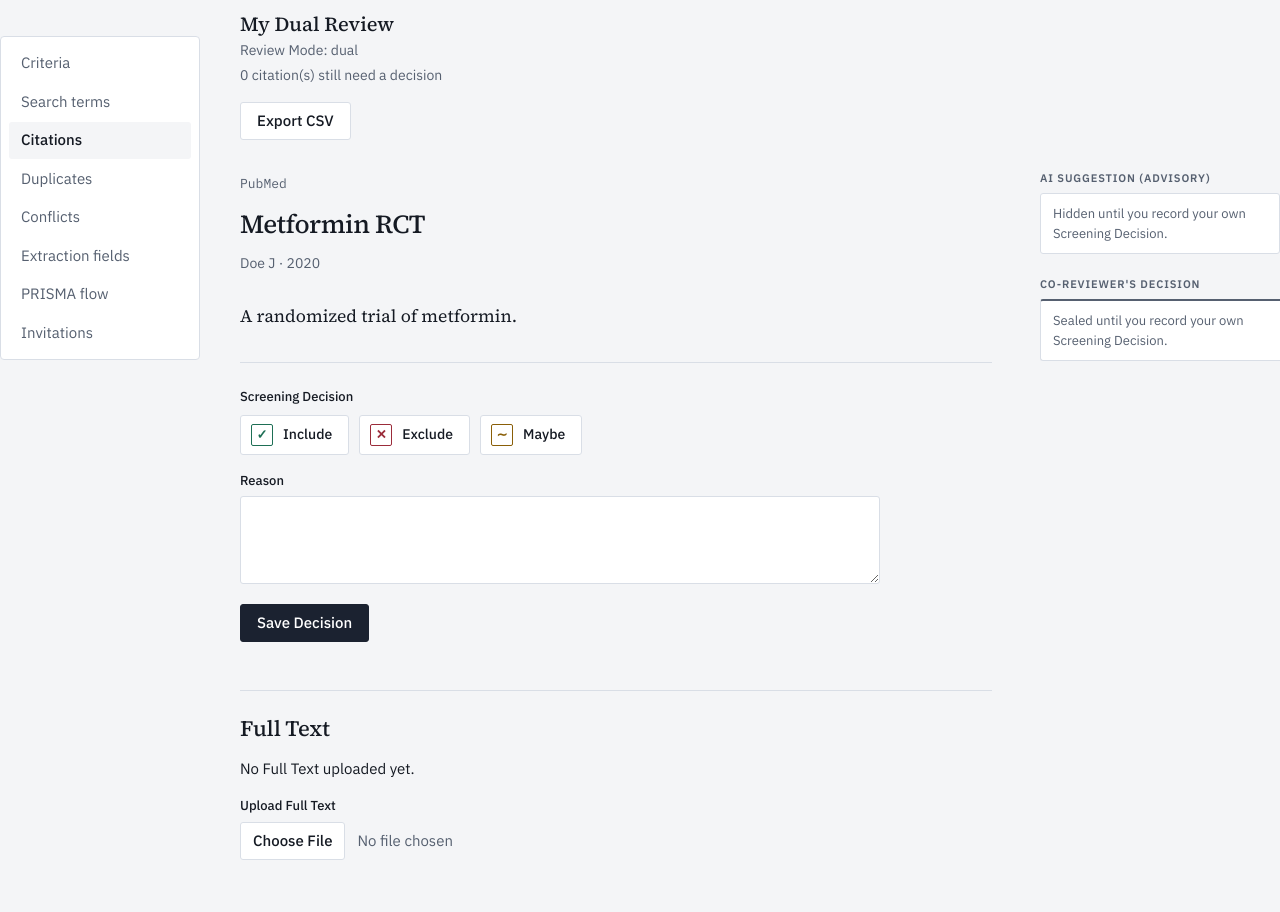
Test: CitationScreeningPage › saving a decision while the suggestion is still being generated (blind Dual) › shows the suggestion once it is ready, without a reload
Check: the text "Hidden until you record your own Screening Decision." is shown, box 1053,204 -> 1267,243
Click the radio button labelled "include": (295, 435) 240,415 -> 349,455
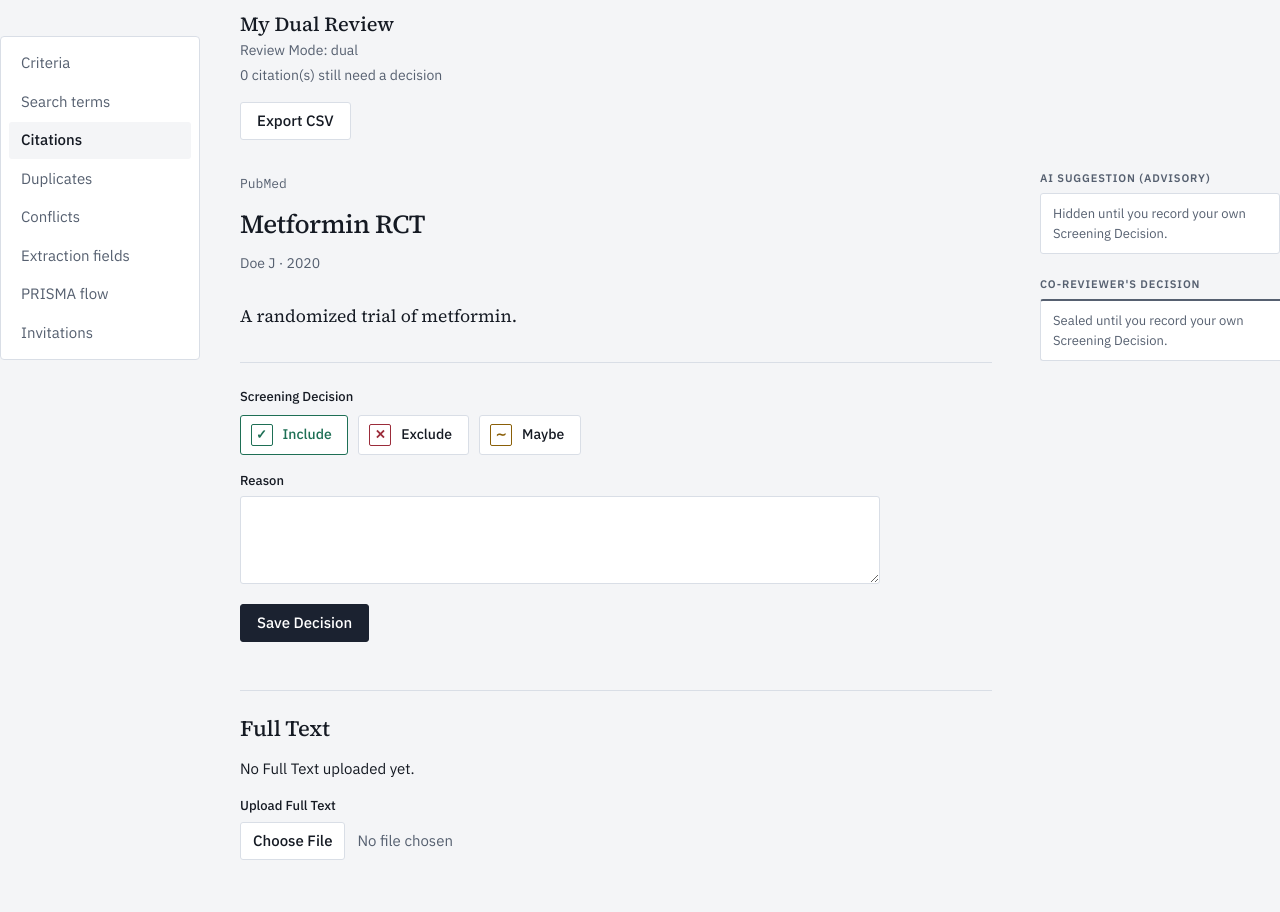
Click the button "Save Decision": (305, 623) 240,604 -> 369,642
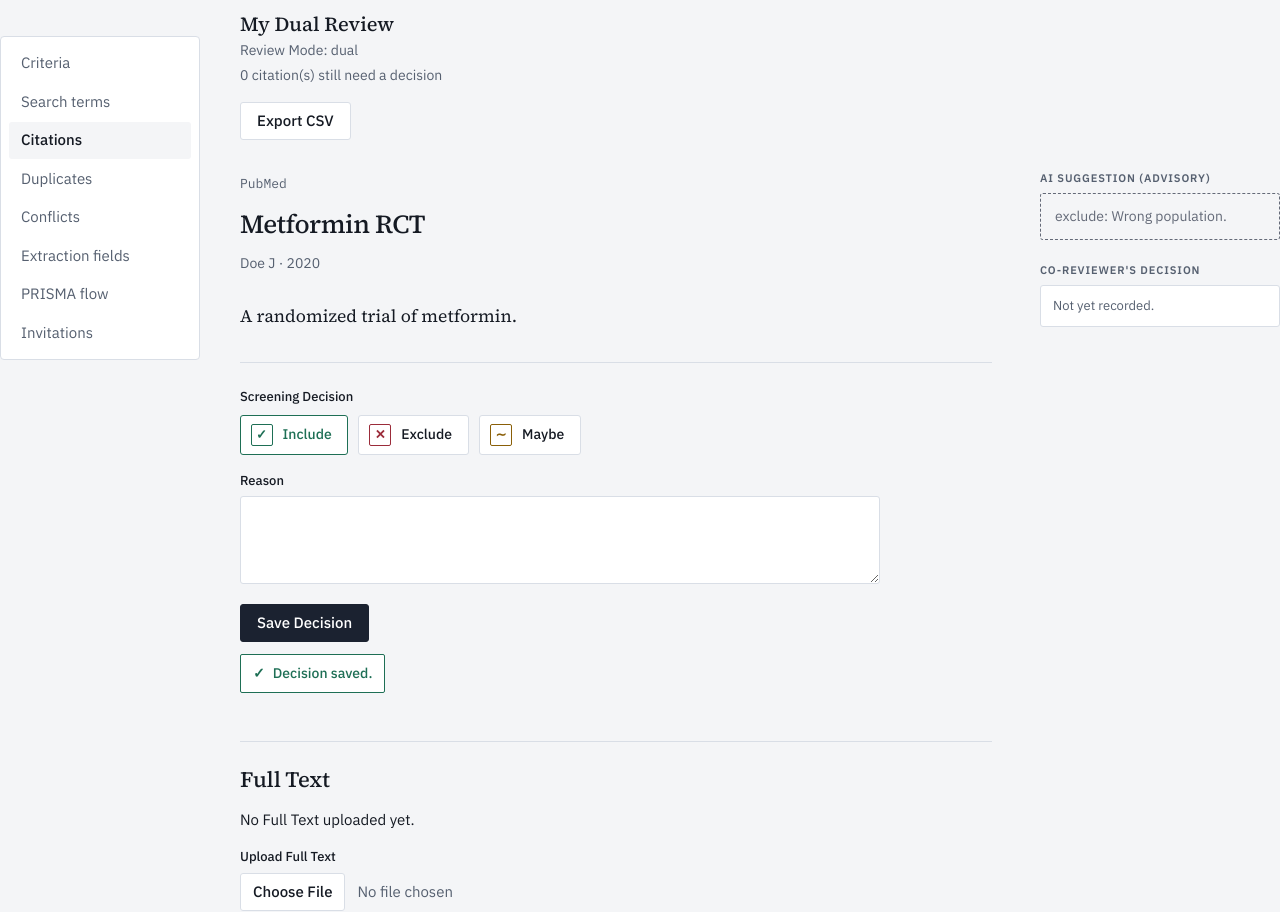
Check: the text "Decision saved." is shown, box 240,654 -> 385,693
Check: the text "exclude: Wrong population." is shown, box 1055,207 -> 1227,225
